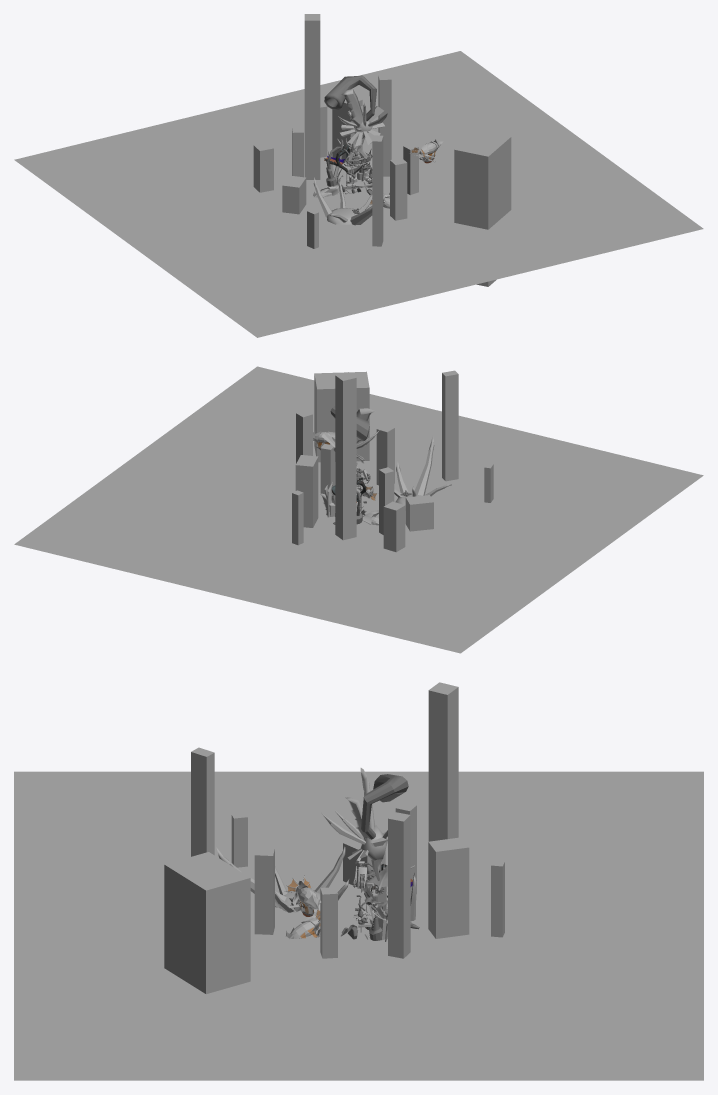
Rendered from LevelTest.fbx.
3 views of the same model, one above another, from view 1: azimuth 30°, elevation 25°; view 2: azimuth 150°, elevation 25°; view 3: azimuth 270°, elevation 25° (orthographic). The views are drawn at different scales.
Visible parts, largest first — view 1: Ground, Tower8, Tower10, Tower11, Tower2, Tower4, Tower9, Zepp:pCylinder93, Tower5, Tower7, Tower1, Tower12; view 2: Ground, Tower10, Tower8, Tower11, Tower7, Tower9, Tower5, Tower4, Tower2, Tower12, Tower1, Tower3; view 3: Ground, Tower8, Tower10, Tower7, Tower2, Tower11, Tower4, Tower1, Zepp:pCylinder93, Tower3, Tower6, Tower5 (+1 smaller).
Boxes of the visible parts, x1,y1,x2,y2 form: Ground: (14,51,703,337); Tower8: (454,130,511,286); Tower10: (304,14,320,179); Tower11: (372,135,383,246); Tower2: (378,74,391,176); Tower4: (390,158,407,220); Tower9: (253,142,273,192); Zepp:pCylinder93: (324,75,376,121); Tower5: (282,175,306,214); Tower7: (332,98,362,163); Tower1: (403,143,418,194); Tower12: (292,128,303,177); Ground: (14,366,703,653); Tower10: (335,372,356,540); Tower8: (314,371,369,462); Tower11: (442,370,458,481); Tower7: (295,455,318,527); Tower9: (383,501,405,552); Tower5: (405,495,433,531); Tower4: (376,424,394,485); Tower2: (296,410,312,463); Tower12: (379,467,394,534); Tower1: (320,444,334,493); Tower3: (292,490,303,545); Ground: (14,771,703,1080); Tower8: (164,852,250,994); Tower10: (428,682,458,841); Tower7: (428,837,469,938); Tower2: (388,812,410,958); Tower11: (191,747,214,856); Tower4: (254,847,274,934); Tower1: (320,887,337,958); Zepp:pCylinder93: (361,774,408,839); Tower3: (491,860,504,937); Tower6: (231,813,247,867); Tower5: (343,839,385,890).
Bounding box in the file's own units: 30693 × 14220 × 28958.
